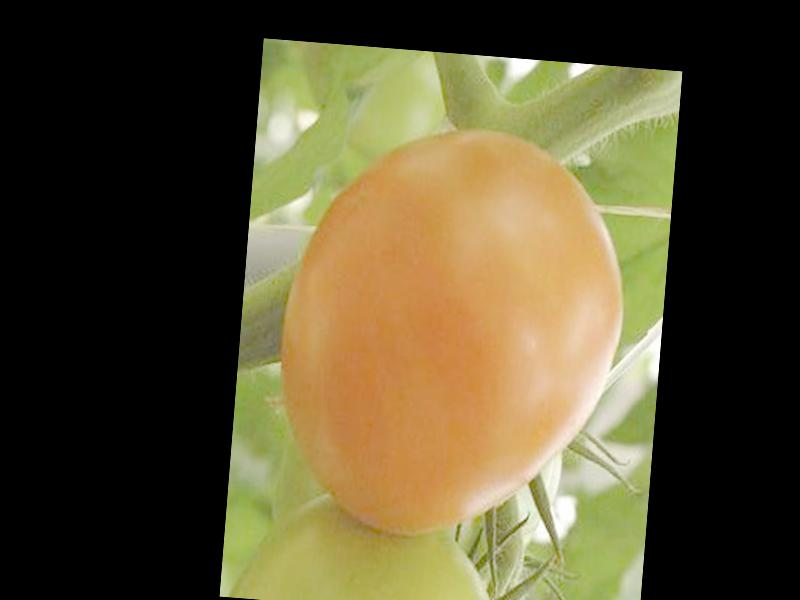Tomato: (268, 116, 637, 548)
